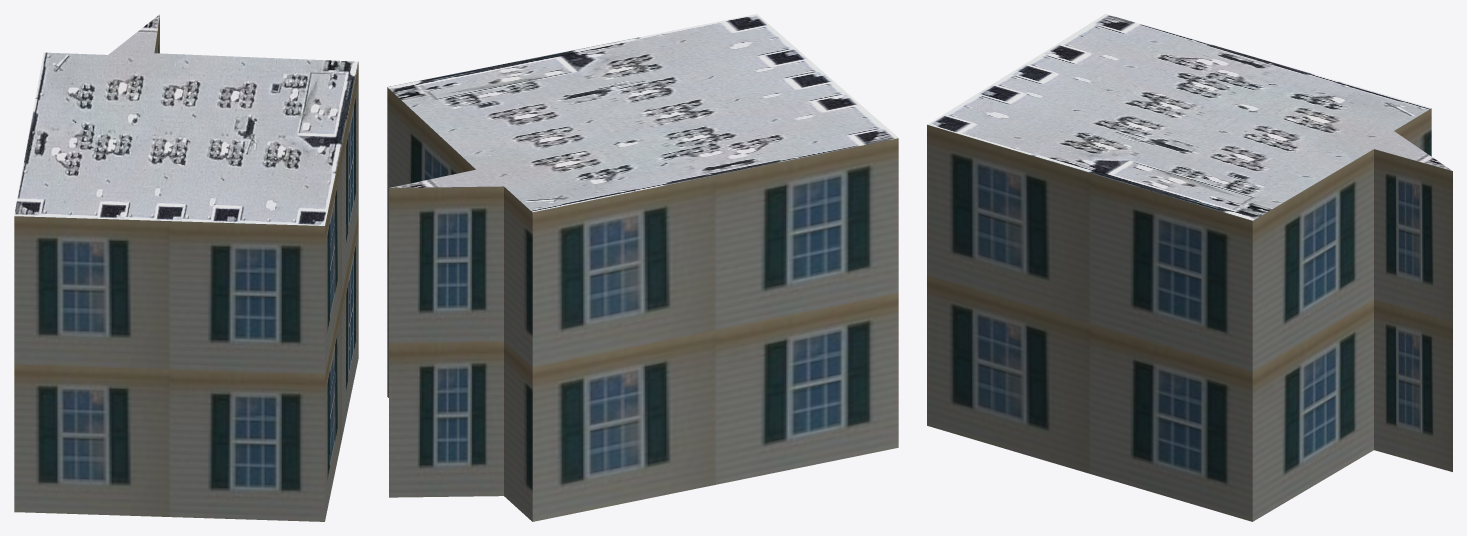
Rendered from ResTex__4979.fbx.
3 views of the same model, side by side, from view 1: azimuth 30°, elevation 25°; view 2: azimuth 150°, elevation 25°; view 3: azimuth 270°, elevation 25° (orthographic). The views are drawn at different scales.
Parts seen in each view (by area): view 1: CityEngineMaterial_7_m, CityEngineMaterial_m; view 2: CityEngineMaterial_7_m, CityEngineMaterial_m; view 3: CityEngineMaterial_7_m, CityEngineMaterial_m.
Boxes of the visible parts, x1=… form: CityEngineMaterial_7_m: x1=14, y1=16, x2=358, y2=521; CityEngineMaterial_m: x1=14, y1=14, x2=358, y2=225; CityEngineMaterial_7_m: x1=387, y1=87, x2=898, y2=521; CityEngineMaterial_m: x1=387, y1=14, x2=898, y2=212; CityEngineMaterial_7_m: x1=927, y1=108, x2=1452, y2=521; CityEngineMaterial_m: x1=927, y1=14, x2=1451, y2=220.
Bounding box in the file's own units: 8.84 × 6 × 9.5.
2 materials, 2 textured.
